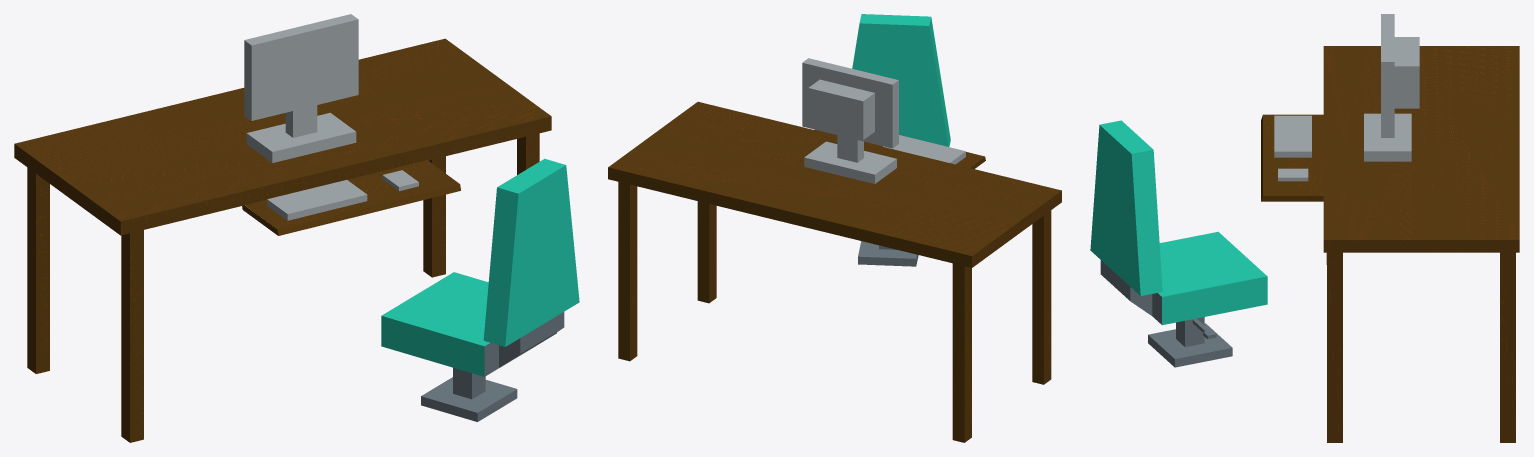
The model's file is BLOCKYGON_OFFICE SET UP.fbx.
3 renders of one model, left to right at view 1: azimuth 30°, elevation 25°; view 2: azimuth 150°, elevation 25°; view 3: azimuth 270°, elevation 25°, orthographic. The views are drawn at different scales.
Visible parts, largest first — view 1: BLOCKYGON_OFFICE_SET_UP; view 2: BLOCKYGON_OFFICE_SET_UP; view 3: BLOCKYGON_OFFICE_SET_UP.
Part boxes in pixels (x1,y1,x2,y2): BLOCKYGON_OFFICE_SET_UP: [14, 14, 579, 442]; BLOCKYGON_OFFICE_SET_UP: [608, 14, 1061, 442]; BLOCKYGON_OFFICE_SET_UP: [1090, 14, 1519, 442].
Bounding box in the file's own units: 254 × 191 × 238.
Materials: 4 (4 with a texture image).
